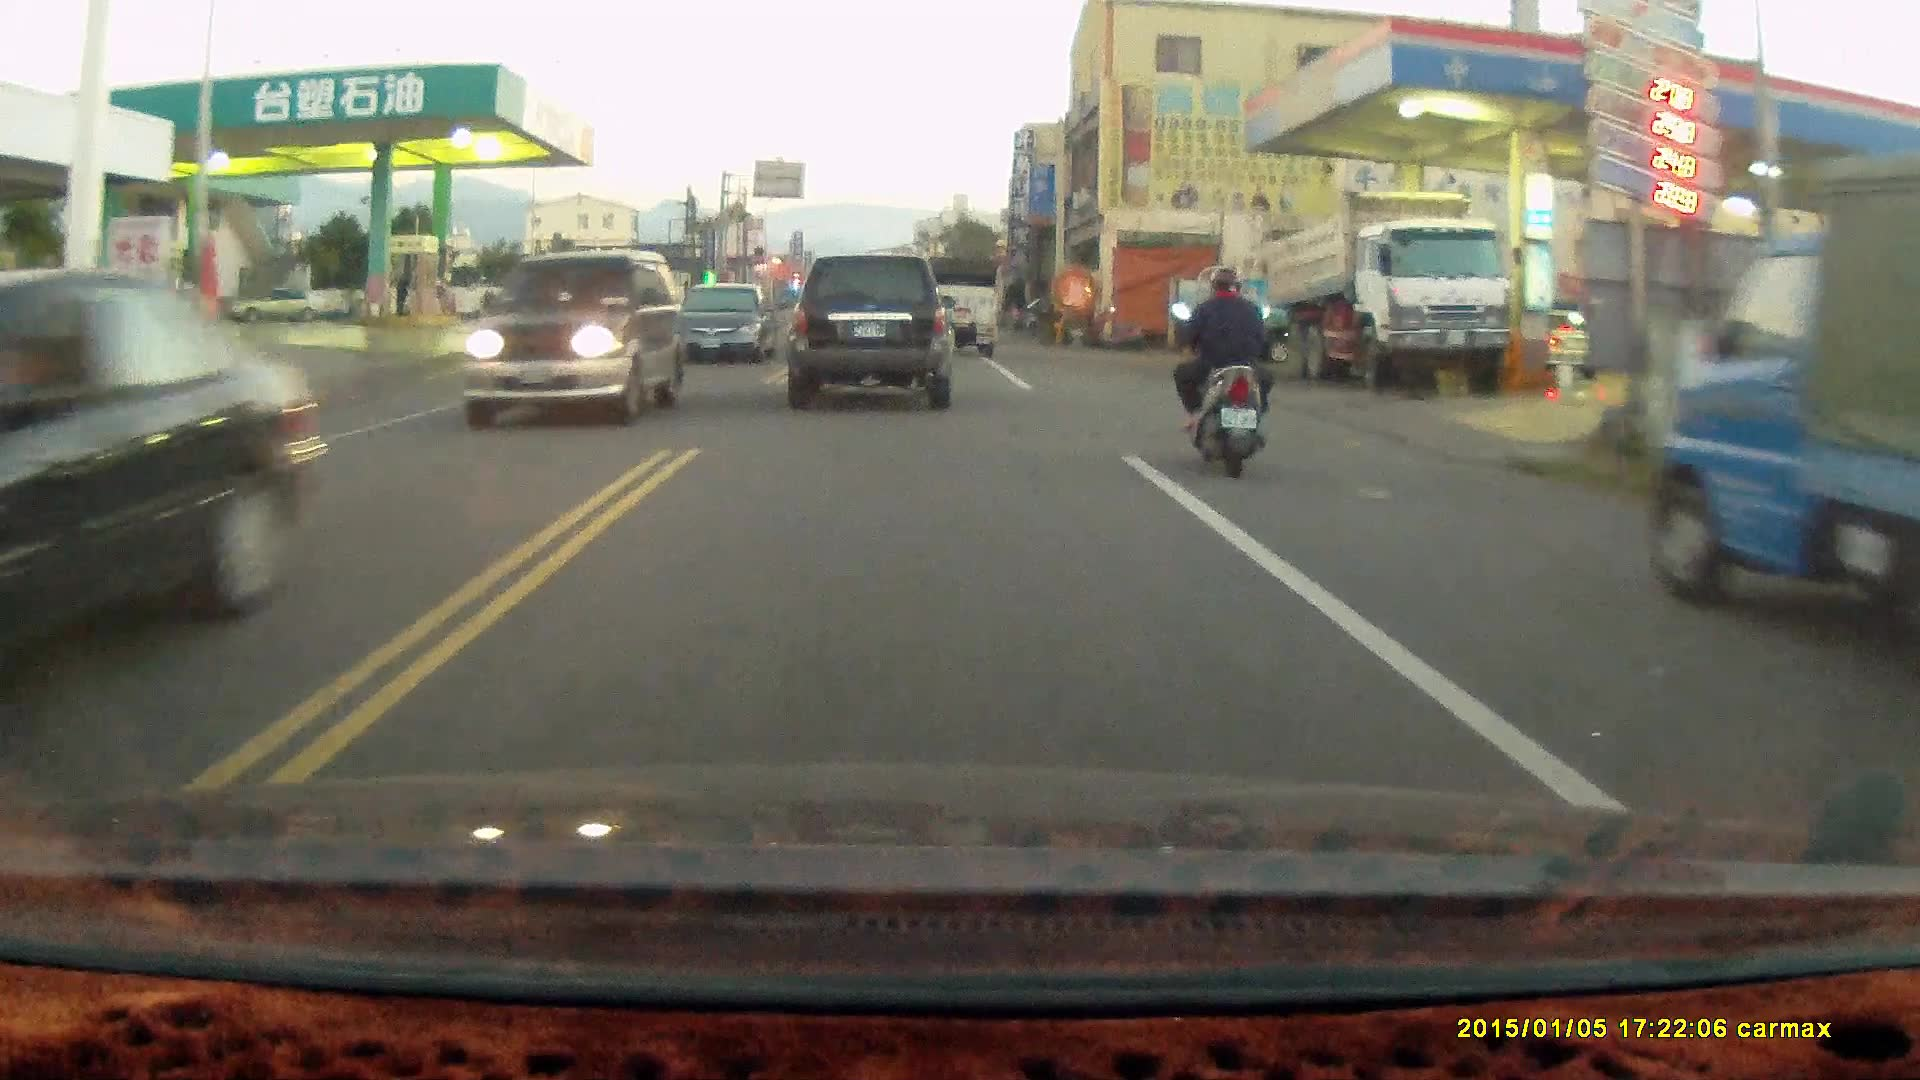rider: (1168, 266, 1275, 481)
vehicle: (1642, 157, 1920, 675), (1, 265, 317, 667), (1257, 188, 1514, 395), (462, 243, 678, 427), (790, 254, 954, 410), (909, 256, 1001, 357), (676, 282, 781, 366)
